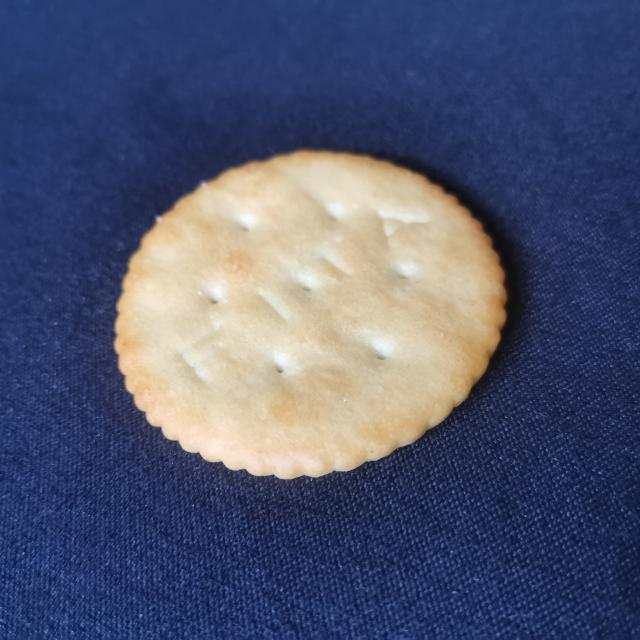Intact: (106, 135, 522, 495)
